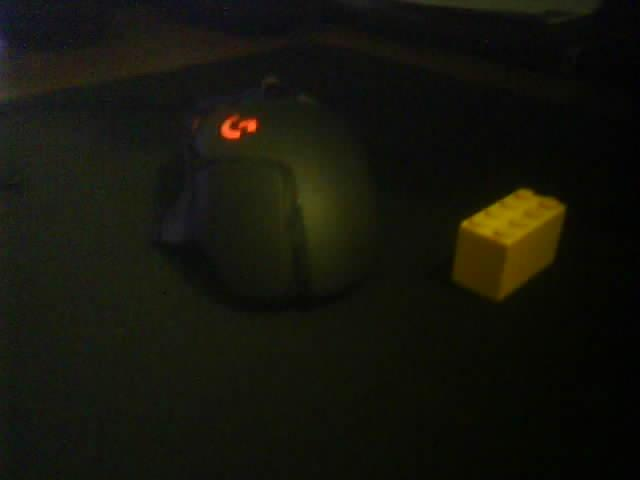lego: (451, 186, 567, 301)
